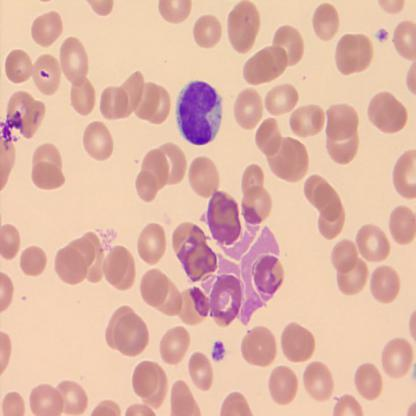Lymphocyte: (174, 80, 224, 146)
